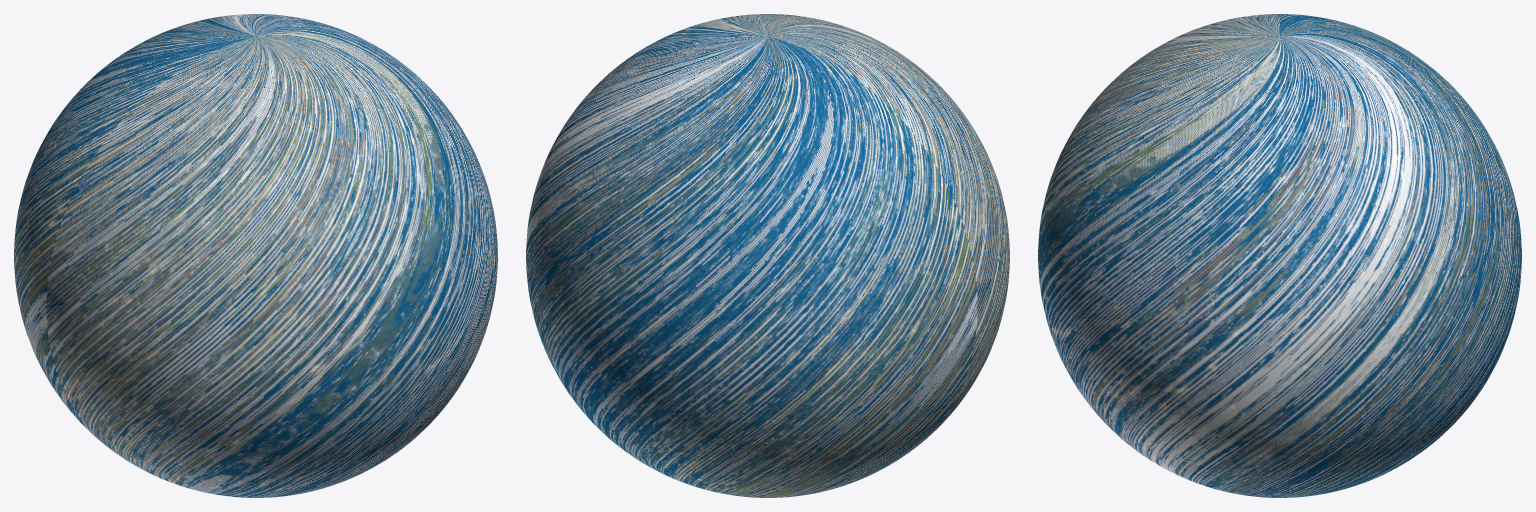
Rendered from earth-8k.glb.
The picture shows the model from 3 angles, left to right: view 1: azimuth 30°, elevation 25°; view 2: azimuth 150°, elevation 25°; view 3: azimuth 270°, elevation 25°; orthographic projection.
Visible parts, largest first — view 1: Earth_8K_Globe; view 2: Earth_8K_Globe; view 3: Earth_8K_Globe.
Boxes of the visible parts, bbox=[...] form: Earth_8K_Globe: bbox=[14, 14, 497, 497]; Earth_8K_Globe: bbox=[526, 14, 1009, 497]; Earth_8K_Globe: bbox=[1038, 14, 1521, 497].
Size of the model in its own units: 2 by 2 by 2.
1 material, 1 textured.
